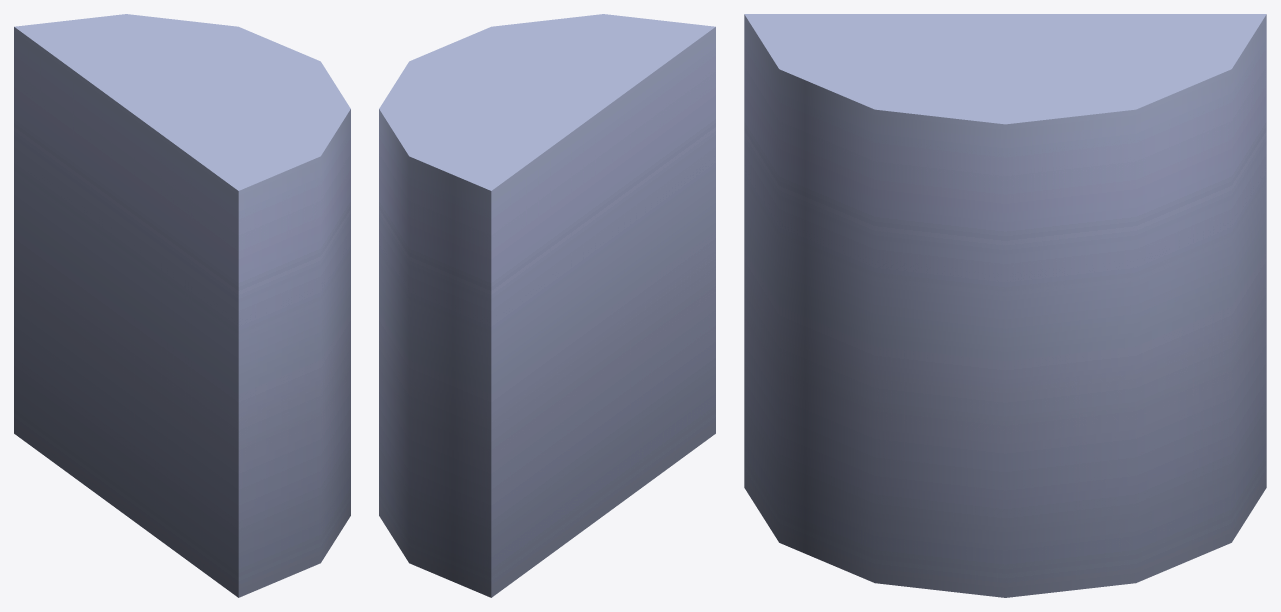
Rendered from shape-cylinder-half.glb.
3 views of the same model, side by side, from view 1: azimuth 30°, elevation 25°; view 2: azimuth 150°, elevation 25°; view 3: azimuth 270°, elevation 25° (orthographic). The views are drawn at different scales.
Visible parts, largest first — view 1: shape-cylinder-half; view 2: shape-cylinder-half; view 3: shape-cylinder-half.
Boxes of the visible parts, x1,y1,x2,y2 form: shape-cylinder-half: (14,14,350,597); shape-cylinder-half: (379,14,715,597); shape-cylinder-half: (744,14,1266,597).
Bounding box in the file's own units: 0.5 × 1 × 1.
1 material, 1 textured.
